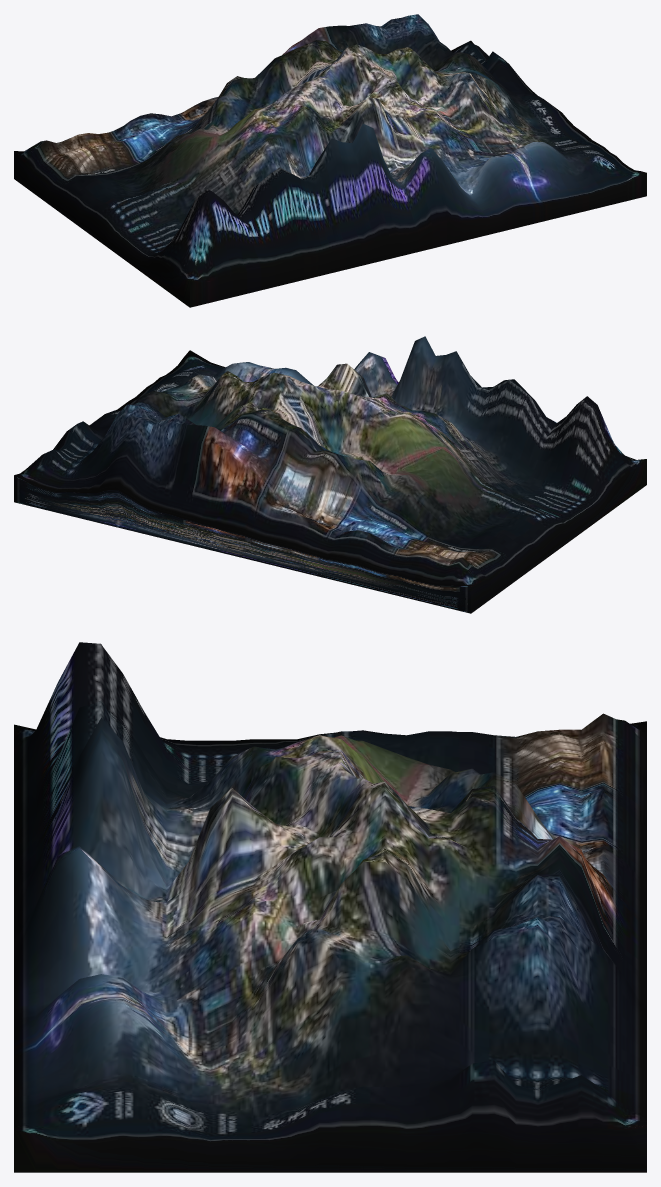
Rendered from DISTRICT_10_University.glb.
The picture shows the model from 3 angles, top to bottom: view 1: azimuth 30°, elevation 25°; view 2: azimuth 150°, elevation 25°; view 3: azimuth 270°, elevation 25°; orthographic projection. The views are drawn at different scales.
Parts seen in each view (by area): view 1: DISTRICT_10_University; view 2: DISTRICT_10_University; view 3: DISTRICT_10_University.
Boxes of the visible parts, x1=… form: DISTRICT_10_University: x1=14, y1=14, x2=646, y2=307; DISTRICT_10_University: x1=14, y1=336, x2=646, y2=613; DISTRICT_10_University: x1=14, y1=642, x2=646, y2=1172.
Size of the model in its own units: 2 by 0.51 by 1.33.
1 material, 1 textured.
